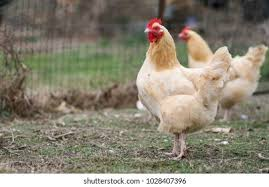buff: (135, 17, 171, 123), (178, 27, 210, 61)
